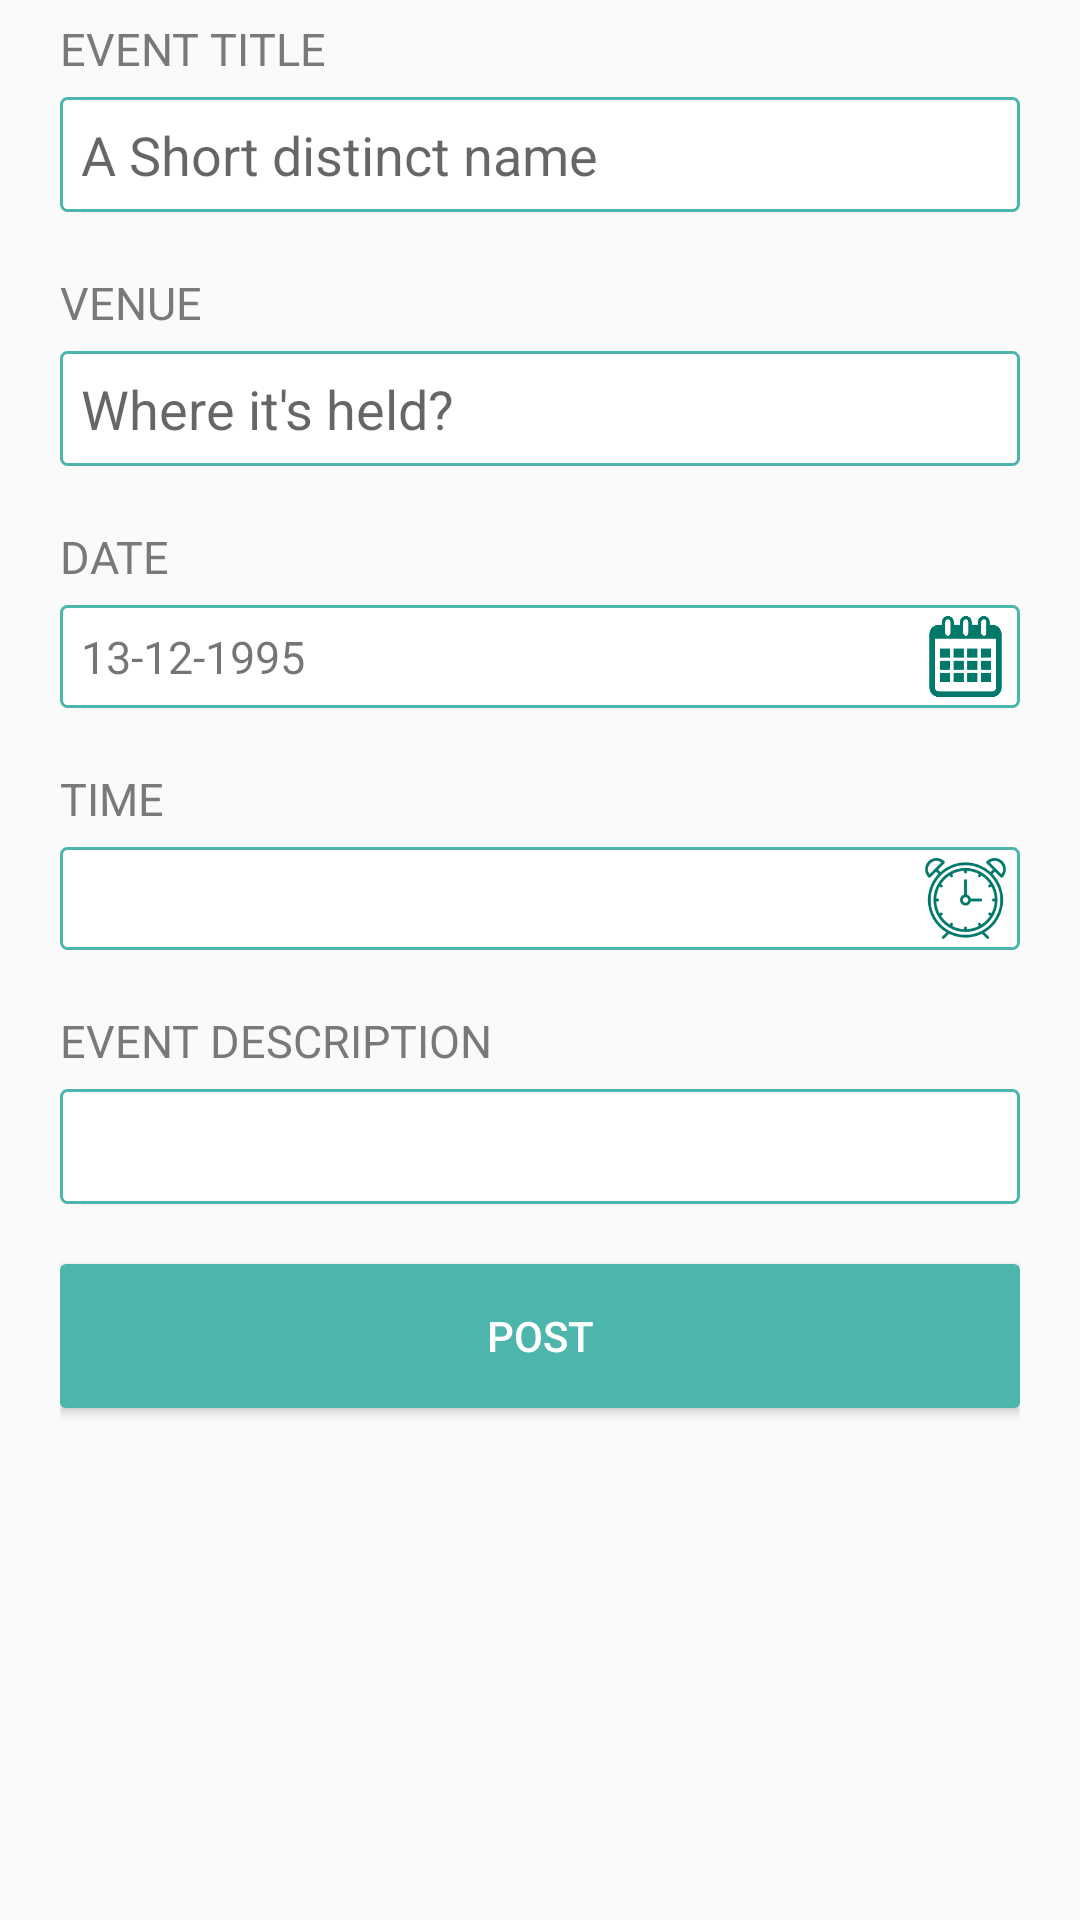

Where to tap for icons on this 1080w x 1920h app screen, as [x,y]:
alarm: [965,898]
calendar: [965,656]
